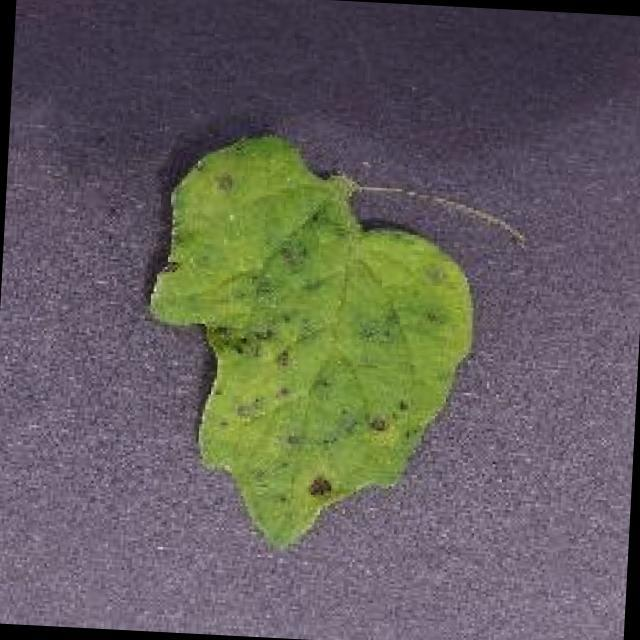Tomato Septoria spot leaf: (134, 131, 480, 561)
